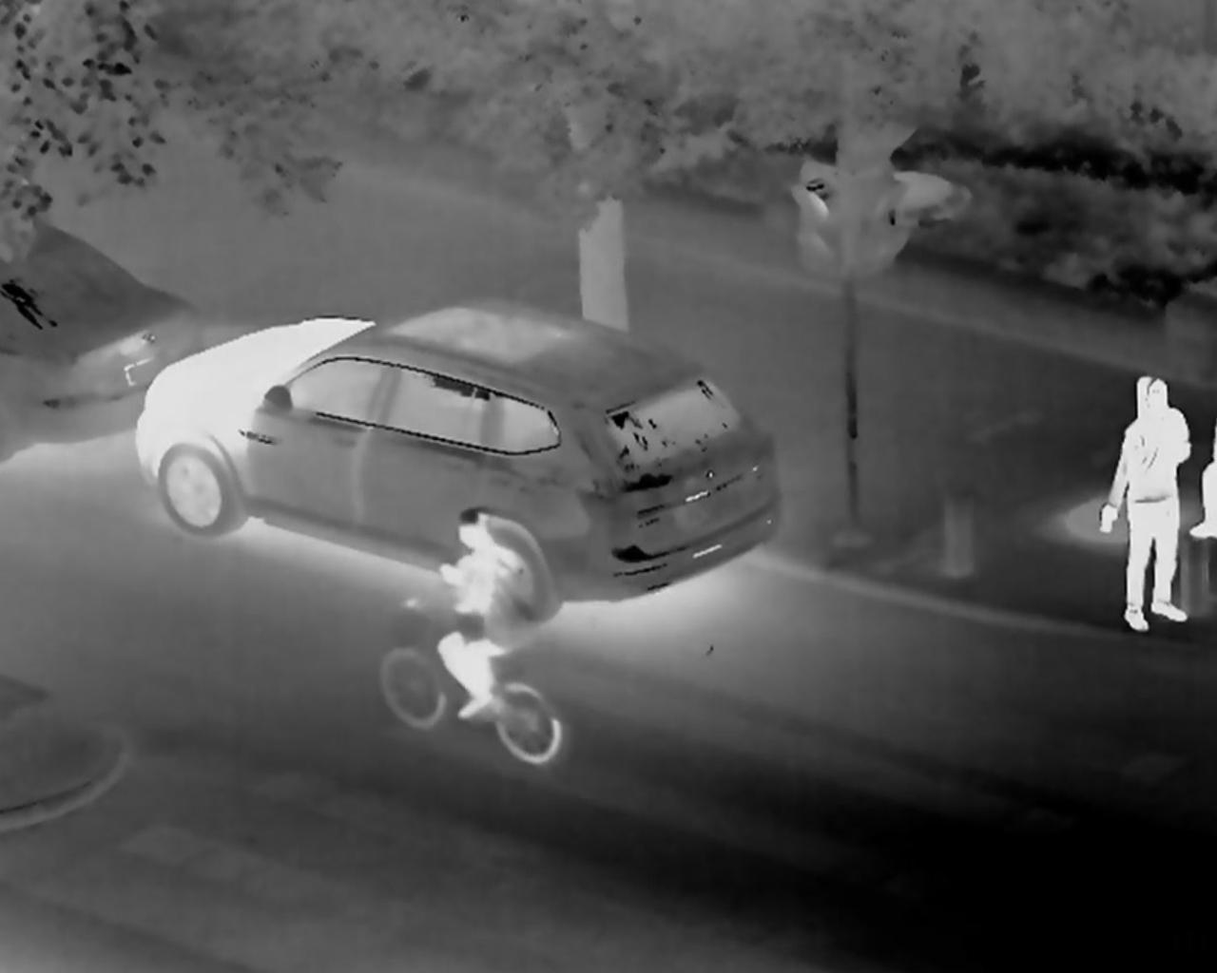person: (1098, 372, 1195, 632), (435, 503, 530, 726)
